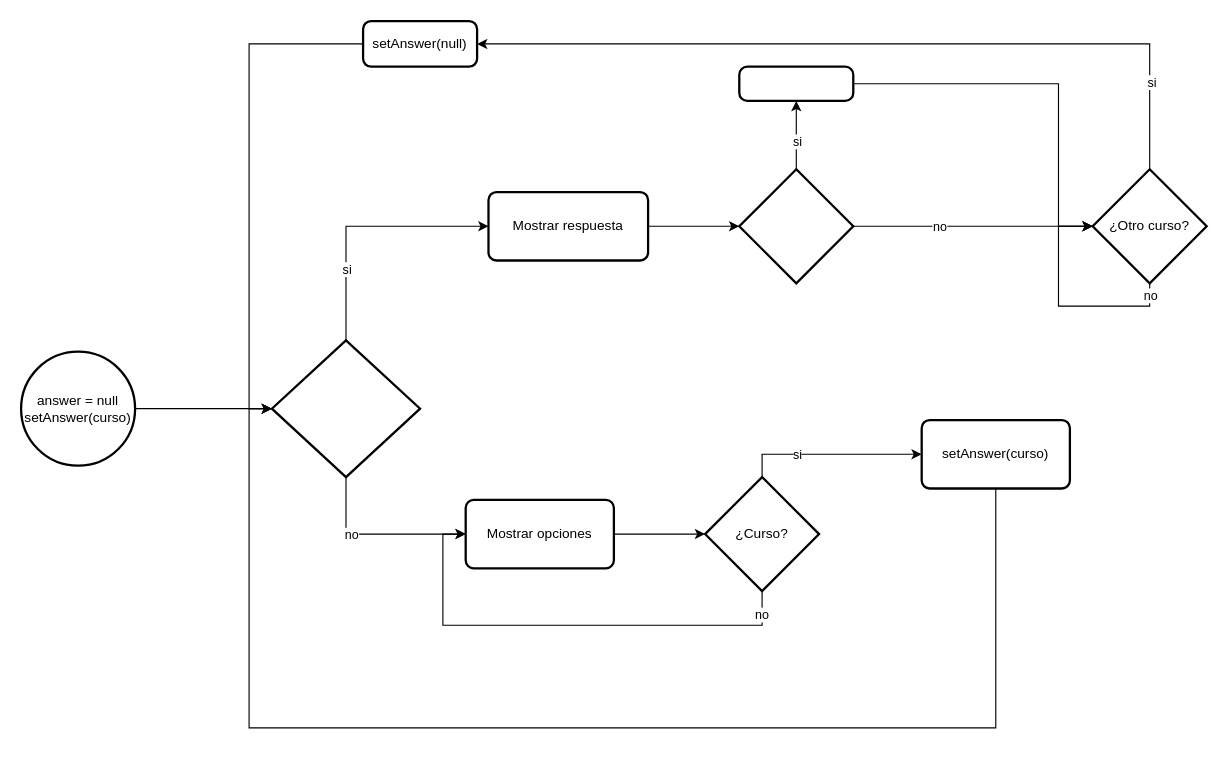
Some shapes in this 1227 by 757 pixel diagram are drawn without their labels. Here are the shapes that lost their labels. From the top down, the centre of each, then its label:
At (796,83): "Suscribirse".
At (796,226): "¿Desea Suscribirse?".
At (345,408): "if (answer)".
